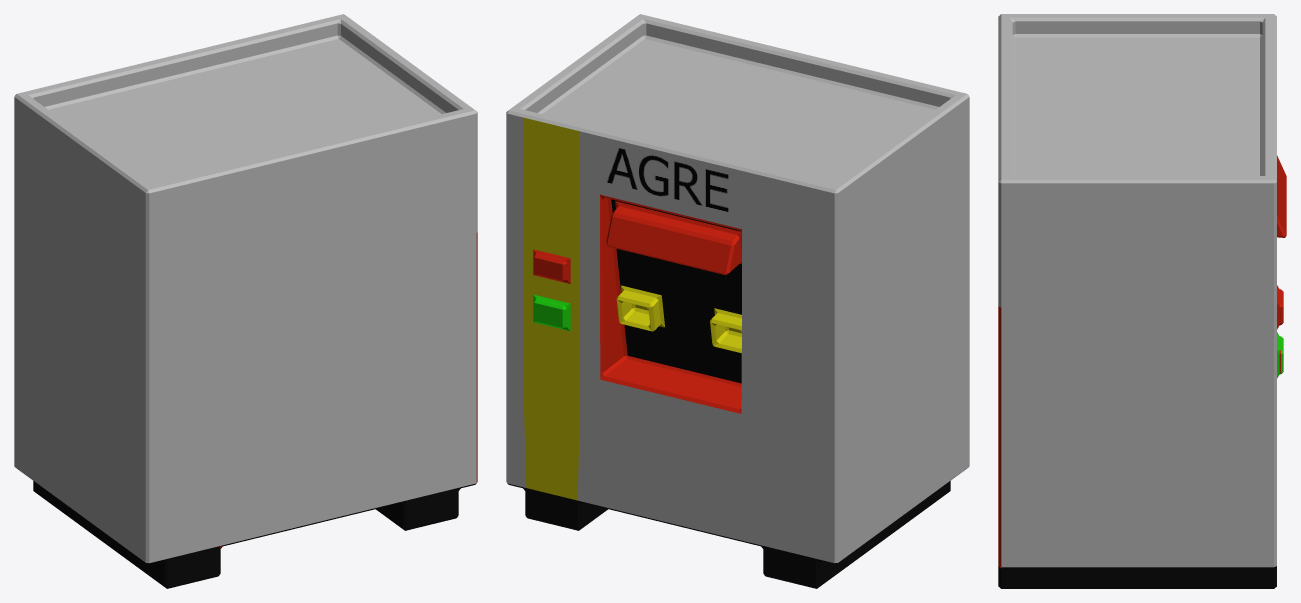
The model's file is Agrigaatti(omaagrigaatti tekstuuri.fbx.
3 renders of one model, left to right at view 1: azimuth 30°, elevation 25°; view 2: azimuth 150°, elevation 25°; view 3: azimuth 270°, elevation 25°, orthographic. The views are drawn at different scales.
Parts seen in each view (by area): view 1: AGRI; view 2: AGRI; view 3: AGRI.
Boxes of the visible parts, x1,y1,x2,y2 form: AGRI: (14, 14, 477, 588); AGRI: (506, 14, 969, 588); AGRI: (998, 14, 1286, 588).
Size of the model in its own units: 60 by 69.71 by 43.45.
Materials: 1 (1 with a texture image).
